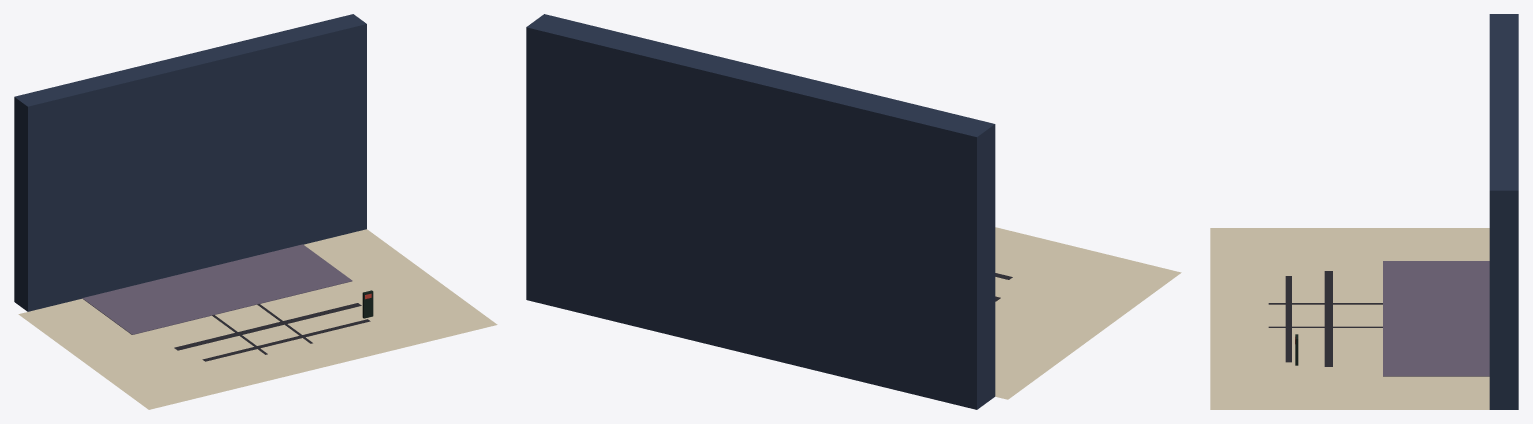
The model's file is map.glb.
The picture shows the model from 3 angles, left to right: view 1: azimuth 30°, elevation 25°; view 2: azimuth 150°, elevation 25°; view 3: azimuth 270°, elevation 25°; orthographic projection. The views are drawn at different scales.
Visible parts, largest first — view 1: table, floor, hit_streets, apron, street_0, street_1; view 2: table, floor, apron; view 3: floor, hit_streets, table, apron, street_0, street_1.
Part boxes in pixels (box(x1,y1,x2,y2)): table: box(14, 14, 366, 311); floor: box(18, 229, 469, 389); hit_streets: box(82, 244, 352, 334); apron: box(122, 305, 497, 409); street_0: box(174, 303, 361, 350); street_1: box(202, 319, 370, 361); table: box(526, 14, 995, 409); floor: box(995, 262, 1145, 399); apron: box(995, 227, 1181, 298); floor: box(1268, 228, 1489, 409); hit_streets: box(1383, 261, 1489, 376); table: box(1489, 14, 1518, 409); apron: box(1210, 228, 1267, 409); street_0: box(1324, 271, 1332, 366); street_1: box(1285, 276, 1291, 362).
Bounding box in the file's own units: 14.75 × 8.29 × 10.58.
